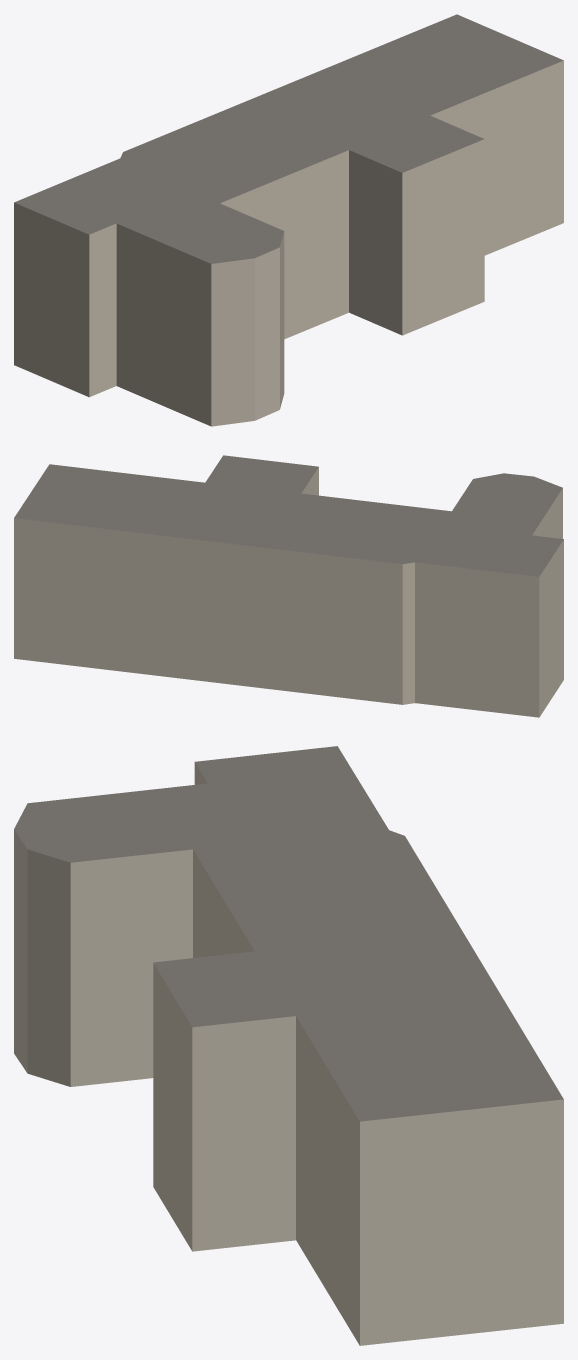
3 renders of one model, top to bottom at view 1: azimuth 30°, elevation 25°; view 2: azimuth 150°, elevation 25°; view 3: azimuth 270°, elevation 25°, orthographic. The views are drawn at different scales.
Visible parts, largest first — view 1: HP-w1323628263; view 2: HP-w1323628263; view 3: HP-w1323628263.
Part boxes in pixels (<box>): HP-w1323628263: <box>14,14,563,426</box>; HP-w1323628263: <box>14,455,563,717</box>; HP-w1323628263: <box>14,746,563,1345</box>.
Bounding box in the file's own units: 64.64 × 18 × 40.
